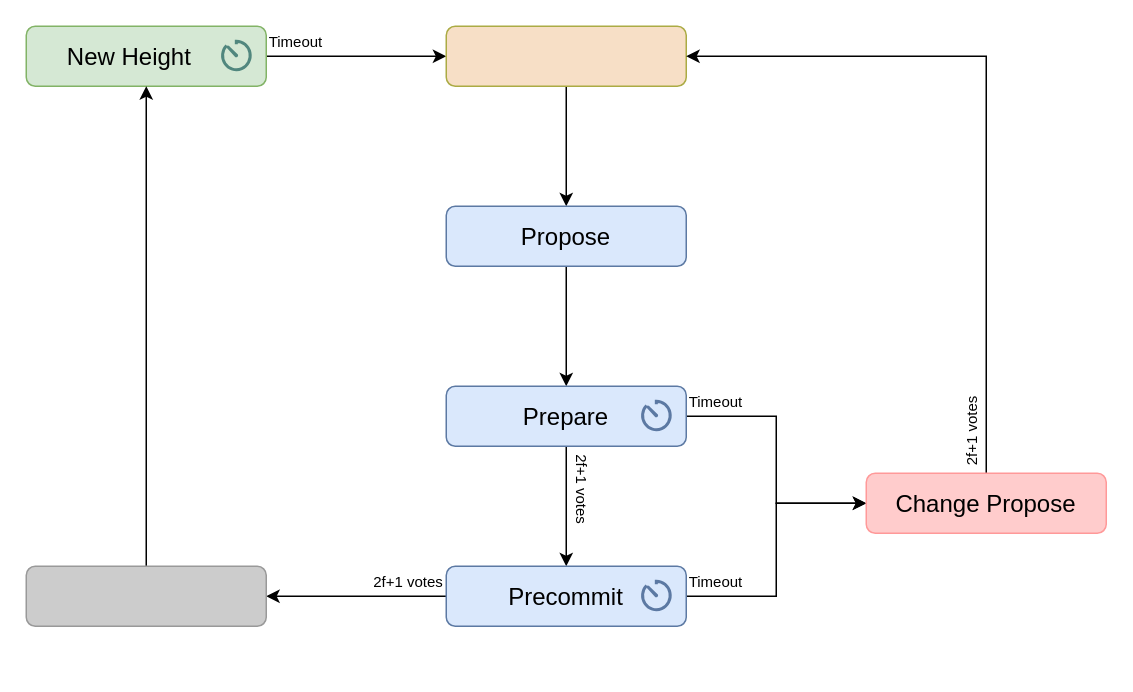
This 1133x692 diagram has some shape labels left out. The shapes that lost their labels are listed below. From the top down, each one's centre as x and y in pixels, then its label:
At pixel 565 55: "New Round".
At pixel 145 595: "Commit".
